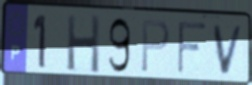1: (31, 13, 48, 71)
9: (106, 16, 133, 74)
F: (176, 19, 209, 76)
H: (66, 13, 101, 76)
P: (139, 19, 172, 75)
V: (211, 23, 246, 77)
